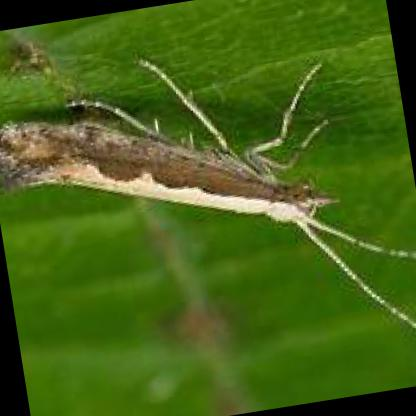plutella: (0, 46, 416, 337)
